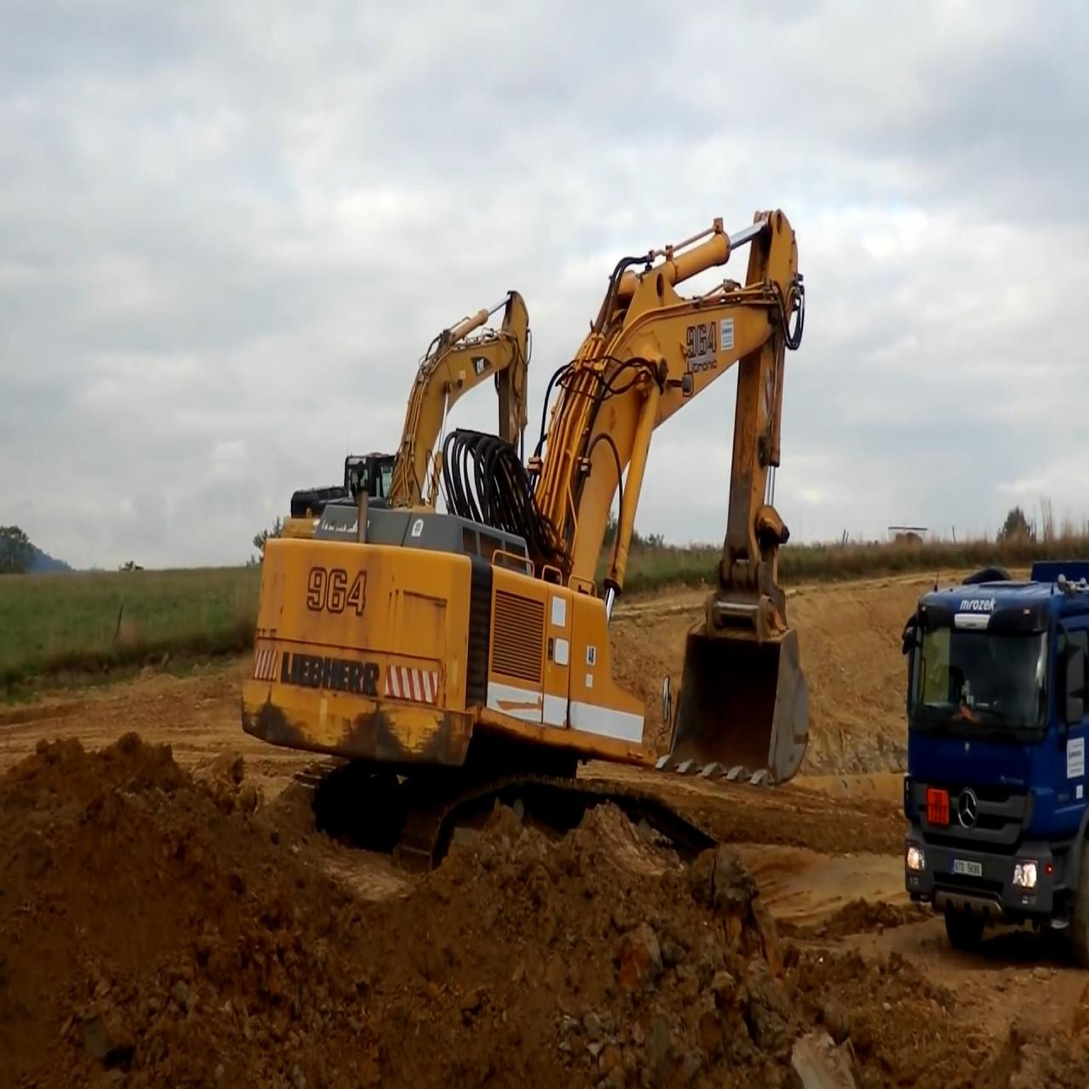Person: (351, 461, 367, 488)
